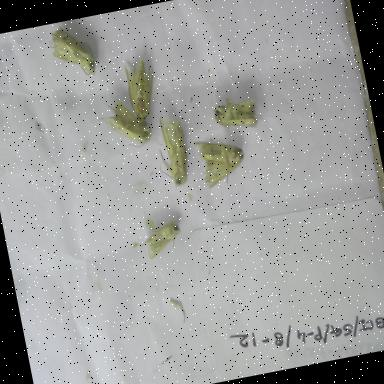abw: (146, 104, 201, 194), (192, 127, 256, 195), (42, 18, 102, 86), (96, 92, 159, 156), (118, 51, 166, 125), (206, 84, 273, 136), (134, 214, 192, 270)
